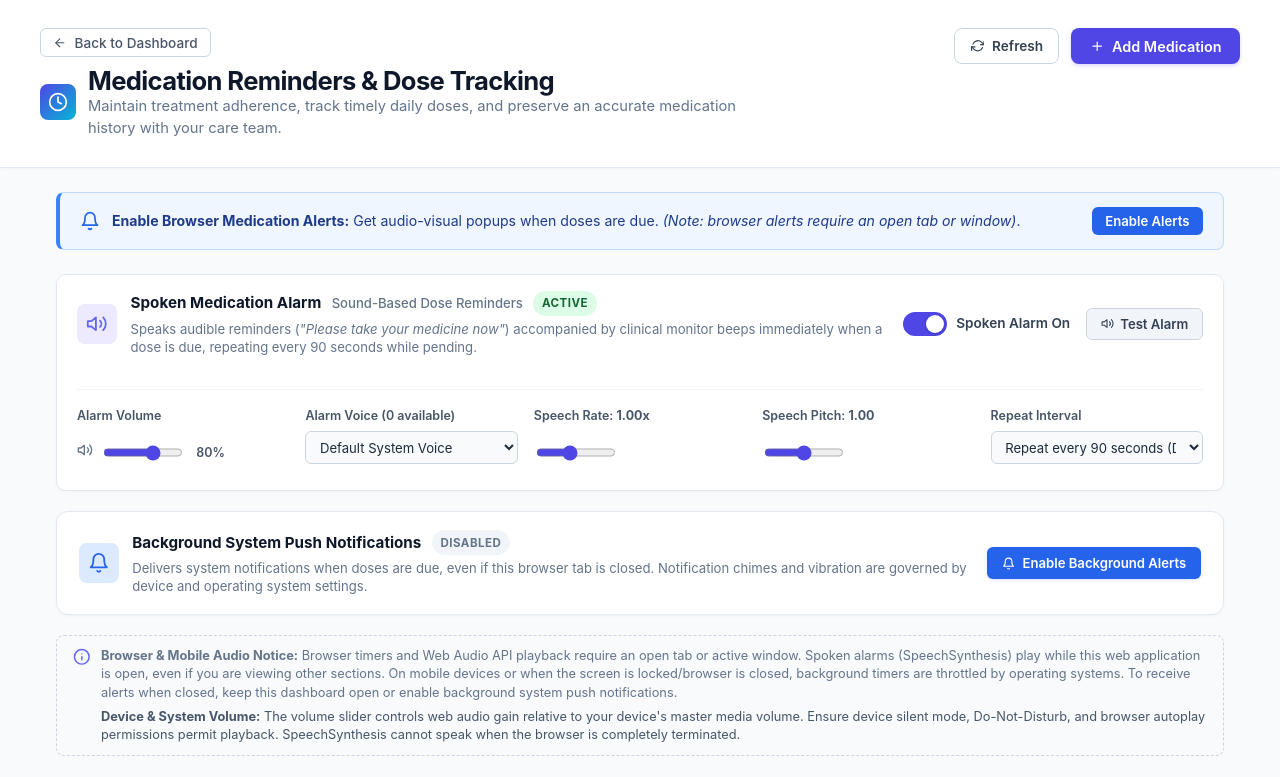
Test: MedicationReminders Component Suite › 7. Renders Sound-Based Dose Reminders control card with toggle and test button
The width and height of the screenshot is (1280, 777).
Expected: the text "Sound-Based Dose Reminders" is shown, [332, 293, 523, 314]
Expected: the text "Active" is shown, [533, 291, 597, 316]
# Test playing sample chime
Click the button with aria-label "Test Sound".
click(1145, 324)  # box [1086, 308, 1203, 340]
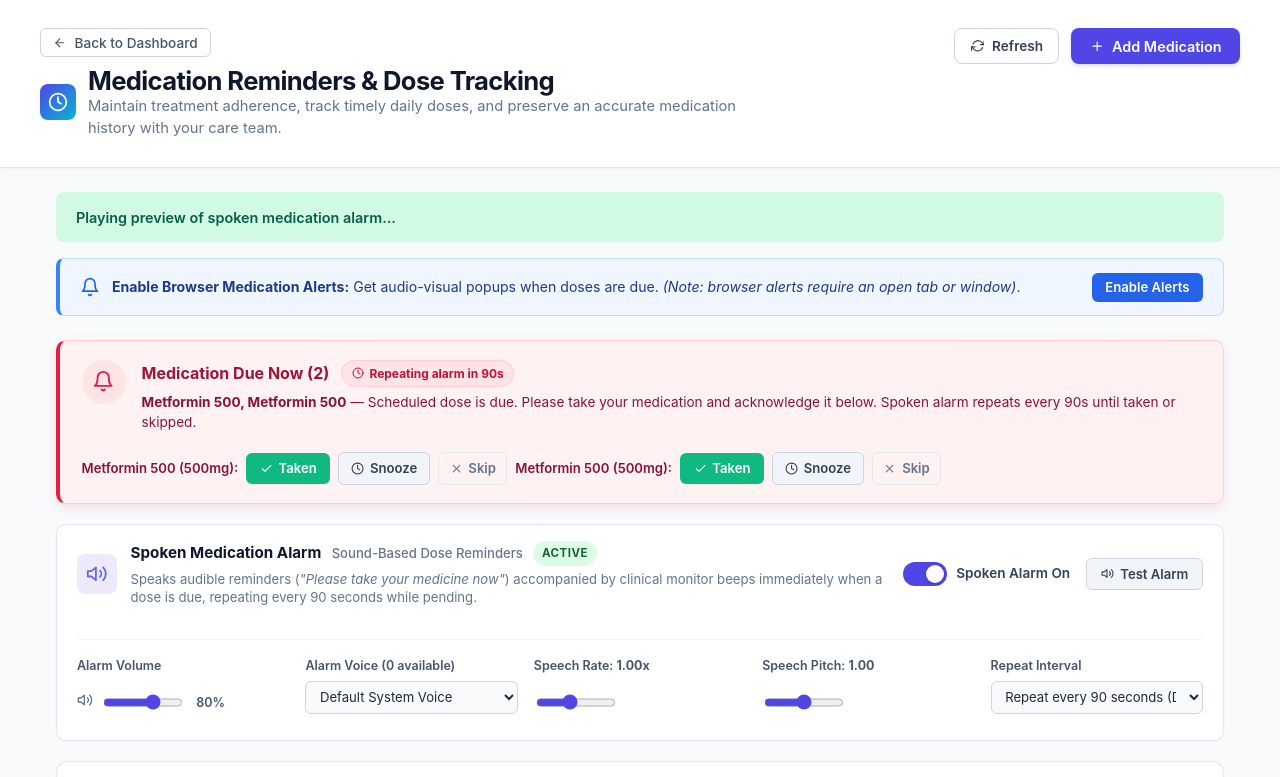
# Toggle sound off
Click the checkbox named "Sound On".
click(986, 574)  # box [902, 562, 1070, 586]
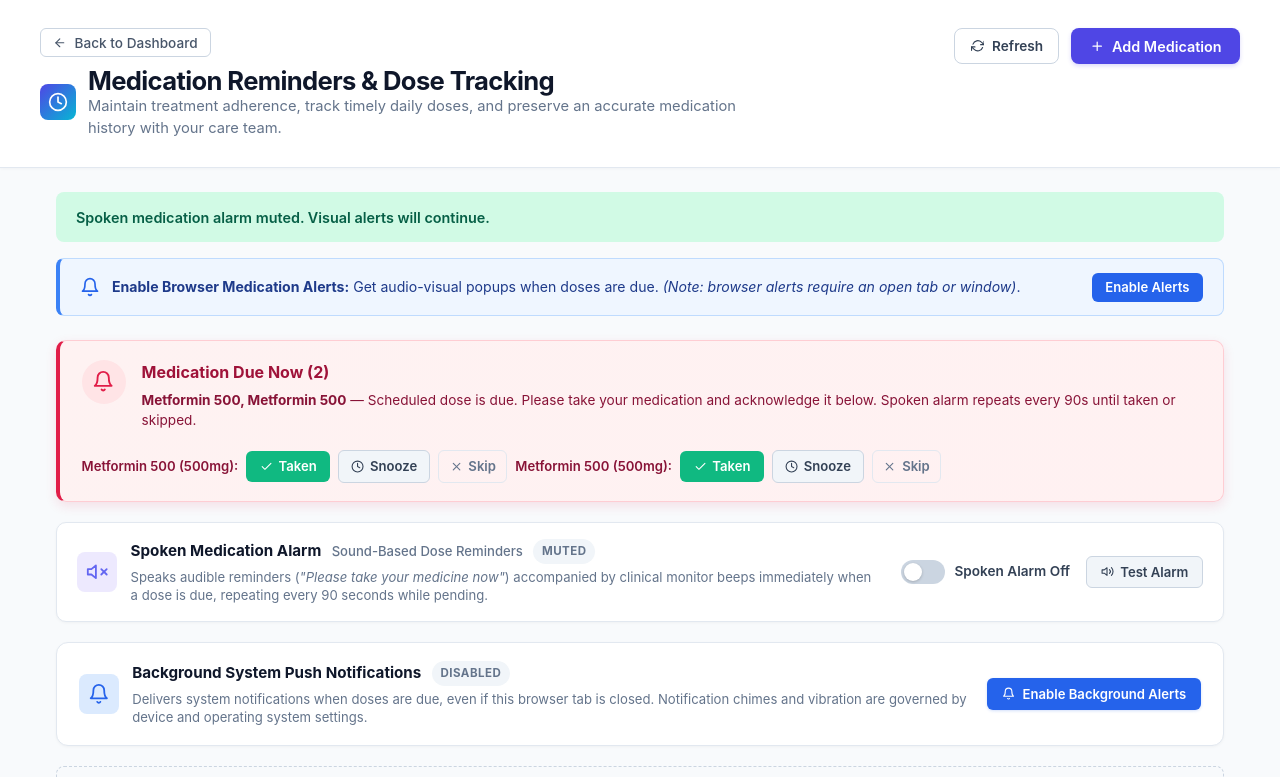
Expected: the text "Muted" is shown, [533, 539, 595, 564]
